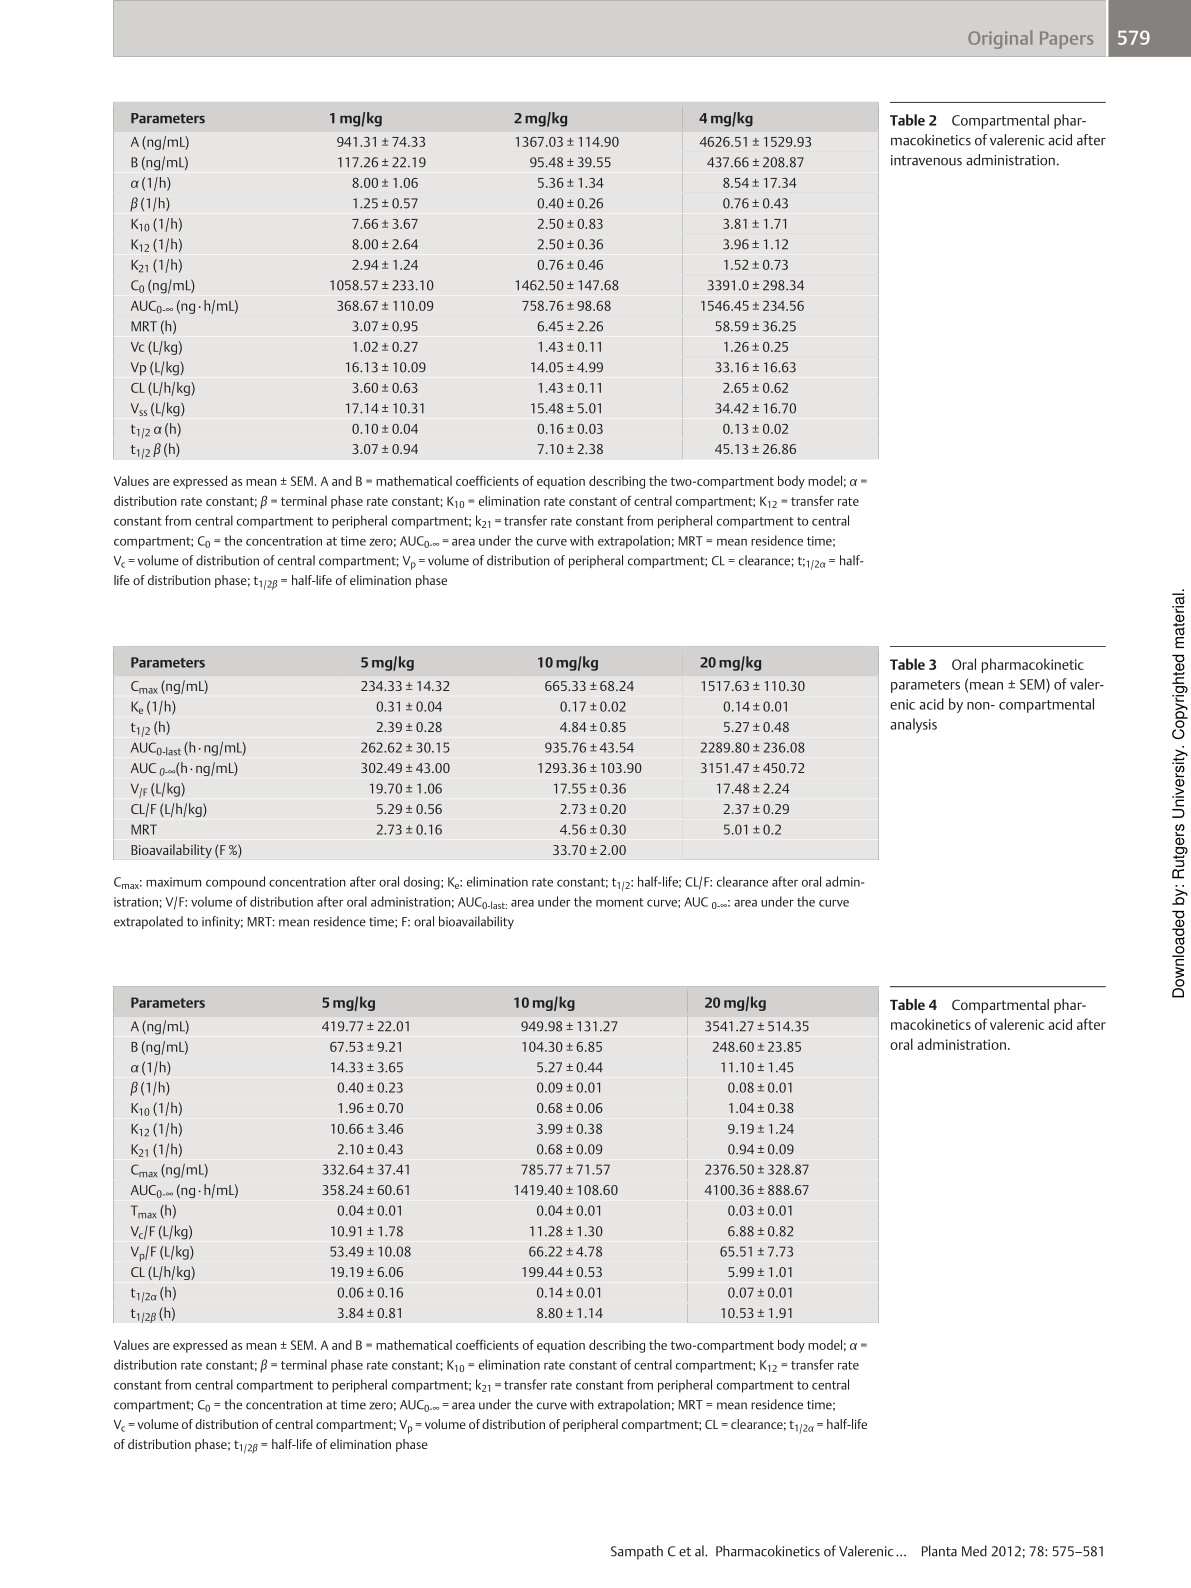partial_lined: (113, 101, 879, 459), (111, 985, 881, 1325), (113, 644, 879, 862)
